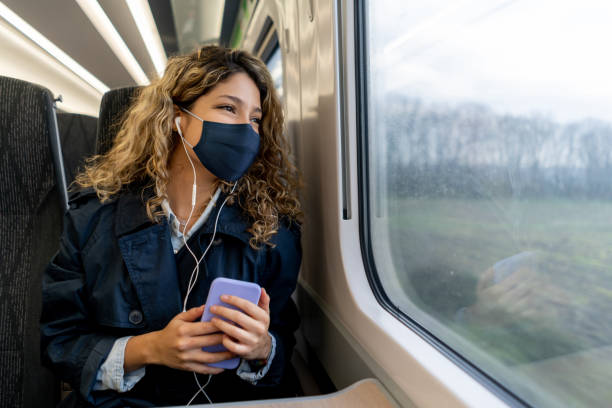with mask: (169, 49, 281, 195)
